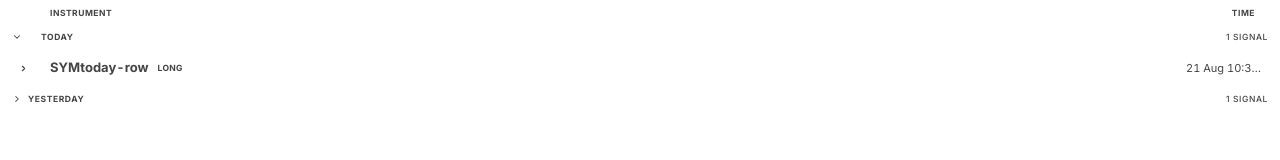
only the newest day band opens by default › leaves Yesterday closed on a board that has Today
Expected: the text "SYMtoday-row" is shown, x1=50 y1=58 x2=148 y2=78
Expected: the text "SYMyesterday-row" is not shown
Click the text "Yesterday". click: coordinates (56, 99)
box: x1=28 y1=92 x2=84 y2=105
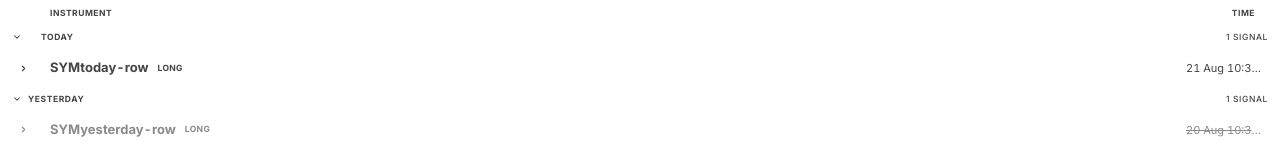
Expected: the text "SYMyesterday-row" is shown, x1=50 y1=120 x2=176 y2=140
